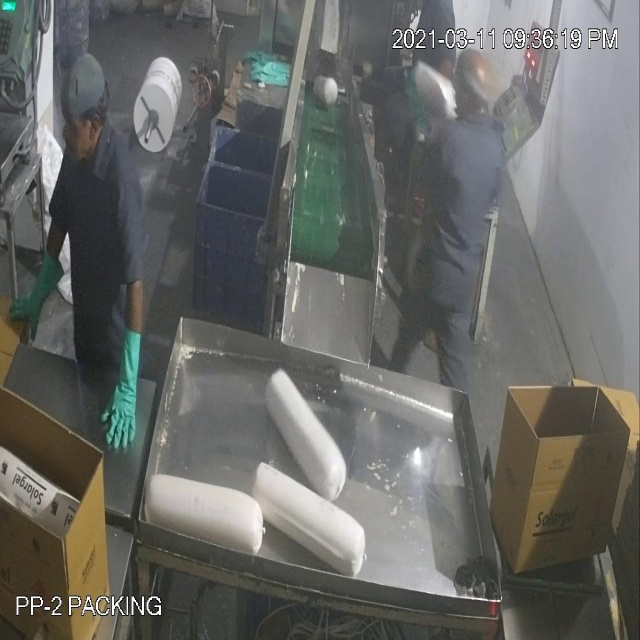Guantes: (97, 316, 149, 458), (8, 241, 69, 352)
